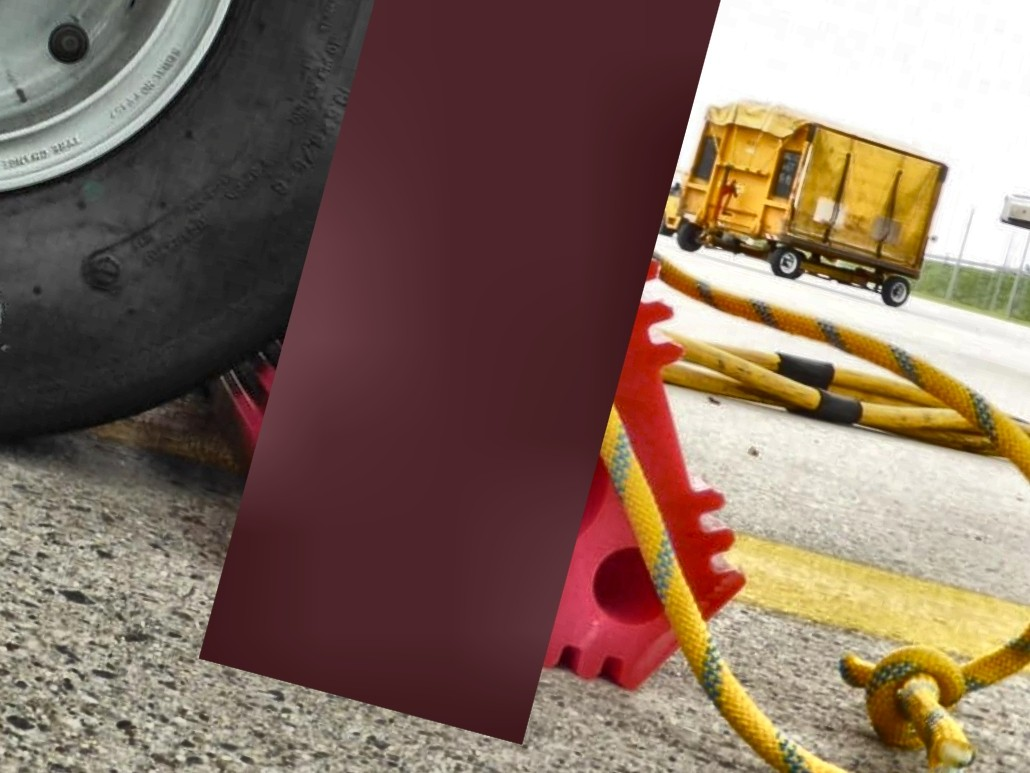chock: (157, 145, 824, 716)
wheel: (0, 0, 507, 557), (767, 242, 807, 280), (877, 272, 912, 309), (675, 217, 708, 252), (646, 205, 675, 237)
